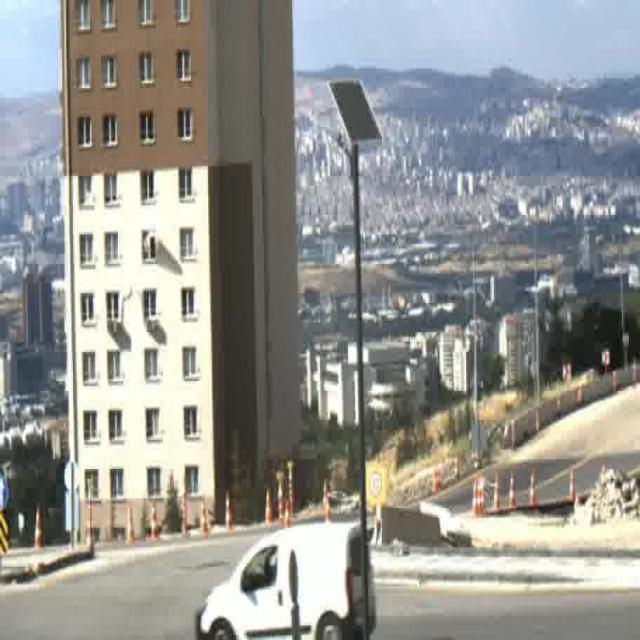Car: (195, 524, 373, 640)
